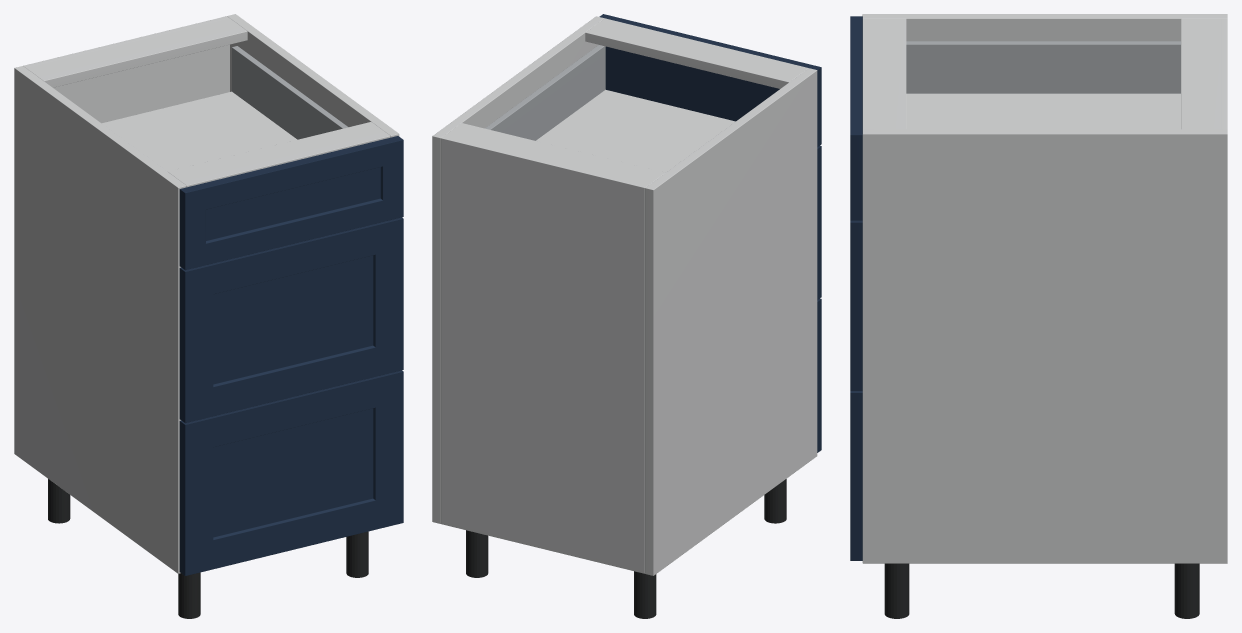
The model's file is oppein-ply-bss-3db18.glb.
3 renders of one model, left to right at view 1: azimuth 30°, elevation 25°; view 2: azimuth 150°, elevation 25°; view 3: azimuth 270°, elevation 25°, orthographic. The views are drawn at different scales.
Visible parts, largest first — view 1: Cabinet side, Drawer front, Drawer front.001, Drawer front.002, Drawer floor.002, Cabinet back, Top support rail, Drawer side.005, Top support rail.001, Cabinet side.001, Adjustable foot.001, Adjustable foot.003 (+1 smaller); view 2: Cabinet back, Cabinet side, Drawer floor.002, Drawer front.002, Cabinet side.001, Top support rail.001, Drawer side.005, Top support rail, Adjustable foot, Adjustable foot.002, Adjustable foot.001, Drawer front (+1 smaller); view 3: Cabinet side.001, Drawer side.004, Drawer floor.002, Cabinet side, Top support rail.001, Top support rail, Drawer front.002, Drawer front.001, Drawer front, Adjustable foot.002, Adjustable foot.003, Cabinet back.
Boxes of the visible parts, x1=… form: Cabinet side: x1=14, y1=66, x2=186, y2=573; Drawer front: x1=179, y1=370, x2=403, y2=575; Drawer front.001: x1=179, y1=217, x2=403, y2=423; Drawer front.002: x1=179, y1=136, x2=403, y2=270; Drawer floor.002: x1=102, y1=91, x2=297, y2=171; Cabinet back: x1=23, y1=16, x2=229, y2=123; Top support rail: x1=25, y1=18, x2=247, y2=87; Drawer side.005: x1=232, y1=46, x2=348, y2=139; Top support rail.001: x1=167, y1=122, x2=390, y2=187; Cabinet side.001: x1=227, y1=14, x2=399, y2=137; Adjustable foot.001: x1=178, y1=572, x2=200, y2=618; Adjustable foot.003: x1=346, y1=531, x2=368, y2=577; Cabinet back: x1=441, y1=136, x2=647, y2=573; Cabinet side: x1=645, y1=68, x2=817, y2=575; Drawer floor.002: x1=536, y1=89, x2=735, y2=172; Drawer front.002: x1=599, y1=14, x2=821, y2=146; Cabinet side.001: x1=432, y1=16, x2=604, y2=523; Top support rail.001: x1=585, y1=18, x2=808, y2=88; Drawer side.005: x1=485, y1=45, x2=605, y2=140; Top support rail: x1=444, y1=123, x2=665, y2=185; Adjustable foot: x1=634, y1=571, x2=656, y2=618; Adjustable foot.002: x1=466, y1=530, x2=488, y2=577; Adjustable foot.001: x1=764, y1=479, x2=786, y2=523; Drawer front: x1=817, y1=298, x2=821, y2=452; Cabinet side.001: x1=862, y1=129, x2=1227, y2=563; Drawer side.004: x1=906, y1=41, x2=1180, y2=93; Drawer floor.002: x1=906, y1=93, x2=1180, y2=129; Cabinet side: x1=862, y1=14, x2=1227, y2=41; Top support rail.001: x1=862, y1=18, x2=906, y2=129; Top support rail: x1=1181, y1=18, x2=1220, y2=129; Drawer front.002: x1=850, y1=16, x2=862, y2=220; Drawer front.001: x1=850, y1=220, x2=862, y2=390; Drawer front: x1=850, y1=391, x2=862, y2=560; Adjustable foot.002: x1=1174, y1=563, x2=1199, y2=618; Adjustable foot.003: x1=884, y1=563, x2=909, y2=618; Cabinet back: x1=1220, y1=18, x2=1227, y2=129.
Size of the model in its own units: 0.4572 by 0.8763 by 0.6064.
